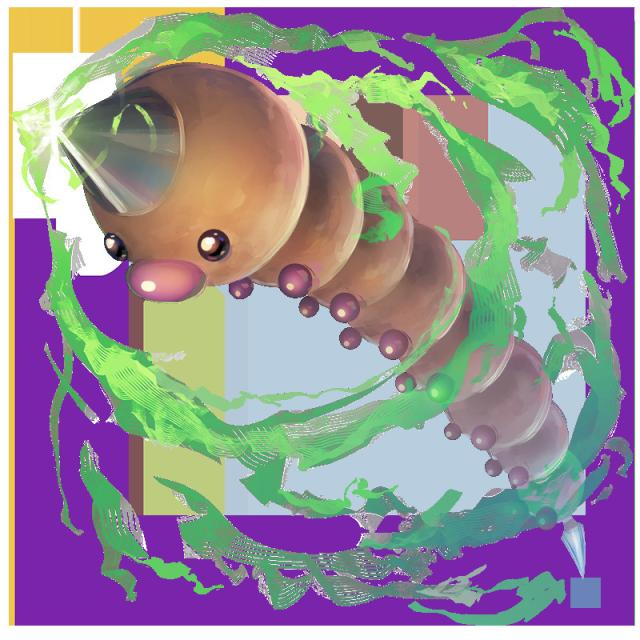Weedle: (45, 70, 498, 360)
